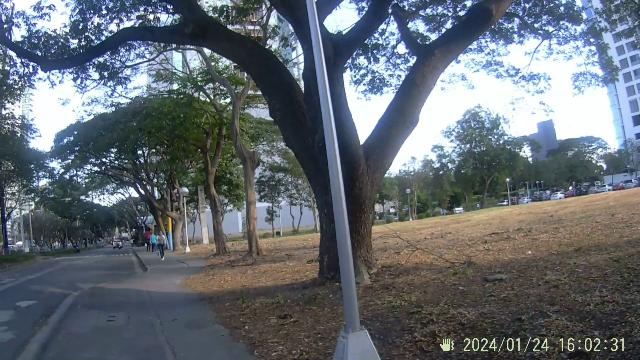lamp_post: (176, 184, 200, 253)
tree: (222, 84, 272, 270), (194, 136, 238, 254)
utility_post: (290, 0, 392, 360)
